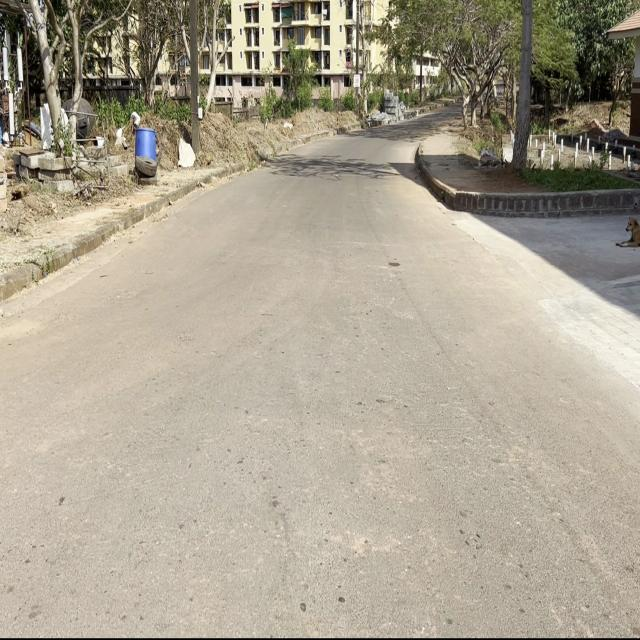Road: (0, 127, 638, 639)
